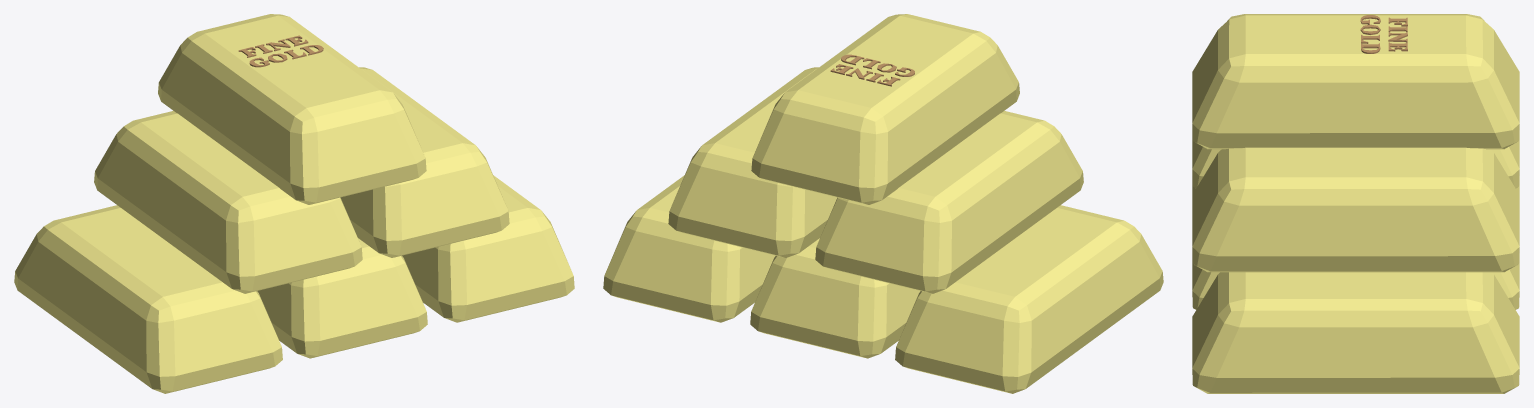
Rendered from Gold_Bars.fbx.
3 views of the same model, side by side, from view 1: azimuth 30°, elevation 25°; view 2: azimuth 150°, elevation 25°; view 3: azimuth 270°, elevation 25° (orthographic). The views are drawn at different scales.
Visible parts, largest first — view 1: Gold_Bars; view 2: Gold_Bars; view 3: Gold_Bars.
Boxes of the visible parts, <box> form: Gold_Bars: <box>14,14,574,393</box>; Gold_Bars: <box>603,14,1163,393</box>; Gold_Bars: <box>1192,14,1519,393</box>.
Bounding box in the file's own units: 70 × 43.23 × 37.15.
